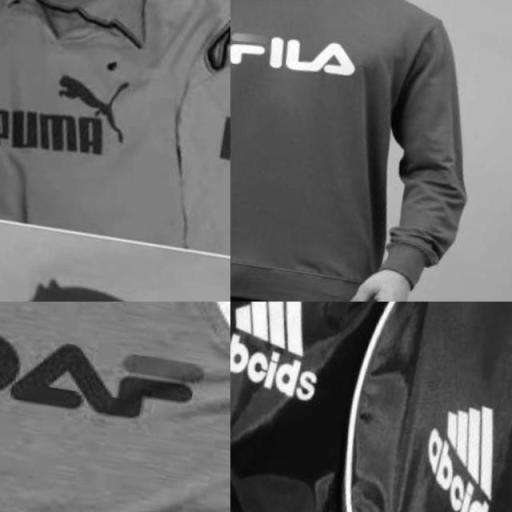Adidas: (396, 349, 512, 512), (230, 302, 341, 414)
Fila: (0, 304, 226, 440), (230, 0, 374, 101)
Puma: (0, 31, 152, 190), (0, 225, 230, 301)
